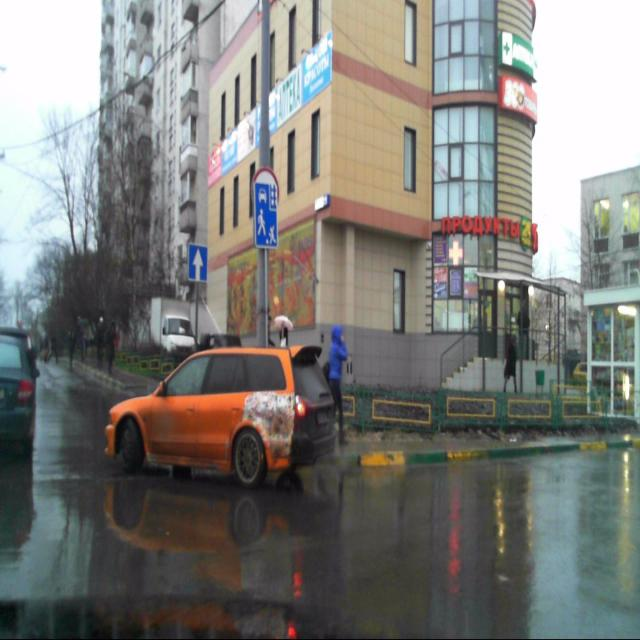object: (254, 181, 278, 251)
road sign: (188, 244, 207, 280)
